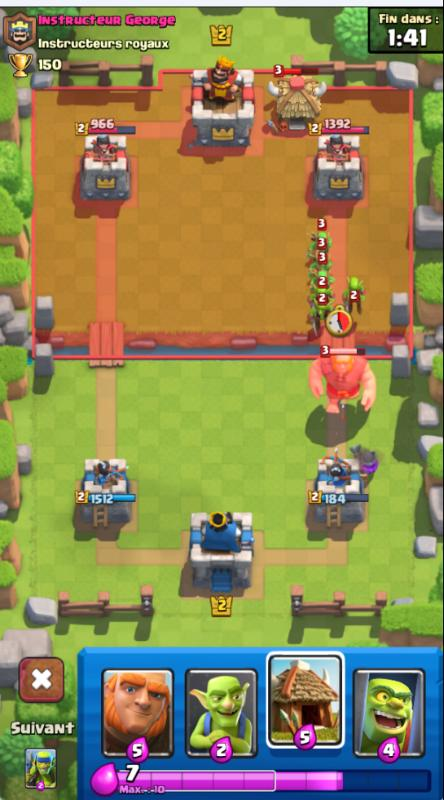geant: (309, 341, 380, 423)
gobelin: (310, 298, 338, 331), (345, 276, 367, 315), (308, 283, 334, 305)
gobelin_lances: (306, 229, 335, 255), (308, 251, 334, 273), (308, 270, 336, 289)
mousquetaire: (351, 440, 380, 490)
